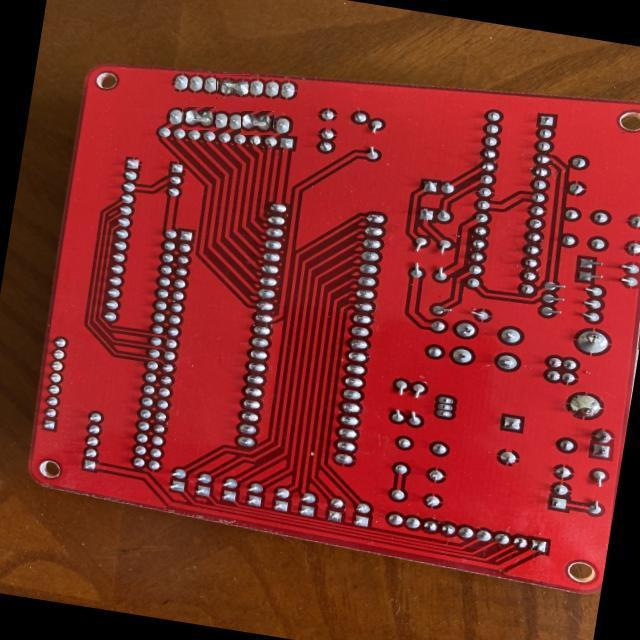damged: (181, 106, 216, 130), (217, 74, 250, 99), (242, 111, 276, 135)
